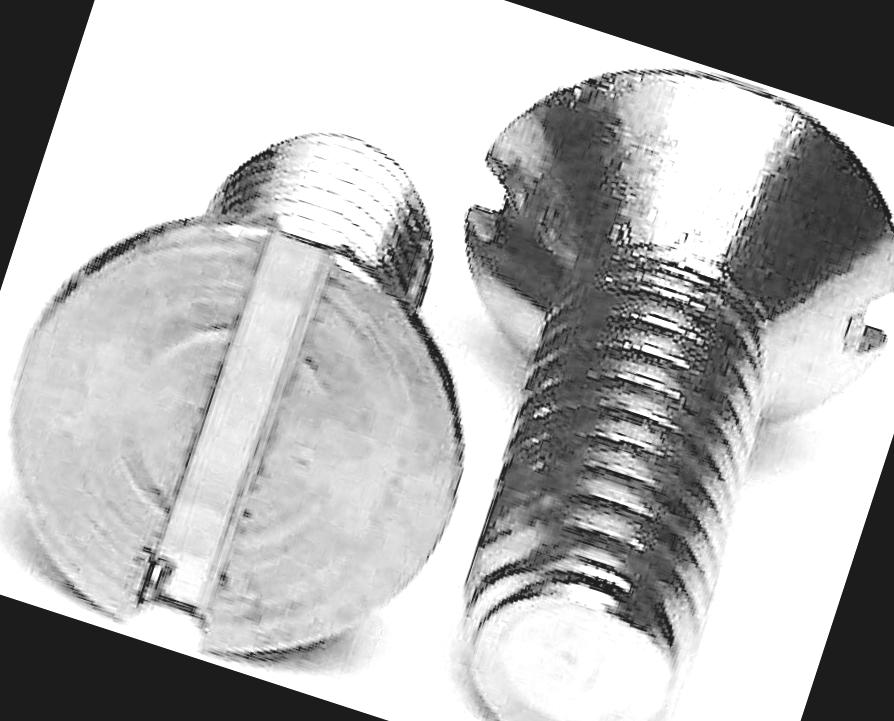slotted: (0, 164, 520, 707)
